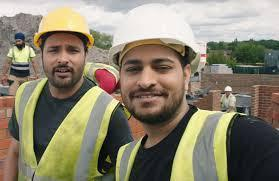helmet: (107, 3, 199, 62), (34, 8, 94, 48)
